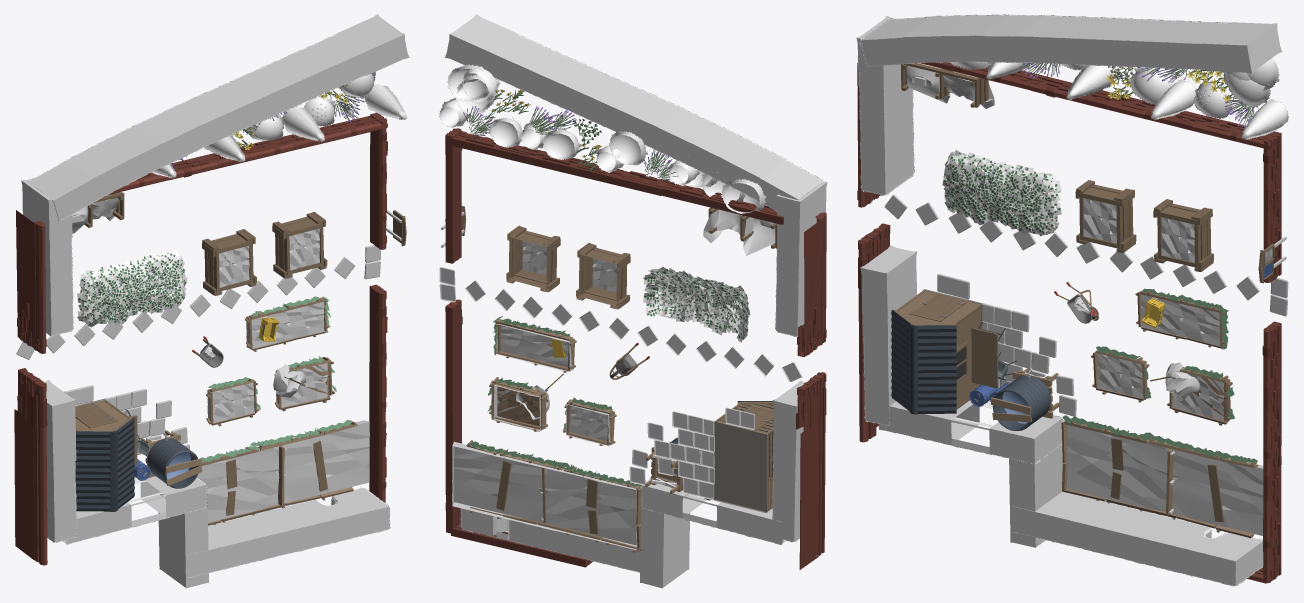
3 renders of one model, left to right at view 1: azimuth 30°, elevation 25°; view 2: azimuth 150°, elevation 25°; view 3: azimuth 330°, elevation 25°, orthographic. The views are drawn at different scales.
Visible parts, largest first — view 1: brick_gate, PlanterDirtLeftLow0, shed, leaves, brickwall1, brickwall3, HedgeHole, HedgeSideEnd6, HedgeSideEnd5, brickwall2, HedgeSideMiddle20, HedgeSideMiddle21 (+41 smaller); view 2: PlanterDirtLeftLow0, brick_gate, shed, leaves, brickwall3, brickwall1, brickwall2, HedgeSideEnd5, PlanterDirtCenterLow2, HedgeSideMiddle20, HedgeSideMiddle22, HedgeSideMiddle4 (+46 smaller); view 3: PlanterDirtLeftLow0, shed, leaves, brickwall1, HedgeHole, brickwall3, HedgeSideEnd5, brick_gate, HedgeEnd3, HedgeEnd4, brickwall2, HedgeEnd0 (+49 smaller).
Part boxes in pixels (x1=…): brick_gate: x1=14, y1=210, x2=47, y2=565; PlanterDirtLeftLow0: x1=197, y1=420, x2=369, y2=522; shed: x1=75, y1=398, x2=134, y2=511; leaves: x1=77, y1=249, x2=187, y2=327; brickwall1: x1=369, y1=284, x2=387, y2=502; brickwall3: x1=169, y1=115, x2=387, y2=180; HedgeHole: x1=308, y1=488, x2=388, y2=542; HedgeSideEnd6: x1=28, y1=161, x2=98, y2=219; HedgeSideEnd5: x1=338, y1=17, x2=406, y2=73; brickwall2: x1=370, y1=113, x2=387, y2=249; HedgeSideMiddle20: x1=101, y1=125, x2=166, y2=180; HedgeSideMiddle21: x1=67, y1=143, x2=132, y2=198; PlanterDirtLeftLow0: x1=452, y1=441, x2=637, y2=549; brick_gate: x1=796, y1=212, x2=826, y2=569; shed: x1=713, y1=400, x2=773, y2=513; leaves: x1=643, y1=266, x2=750, y2=342; brickwall3: x1=445, y1=131, x2=670, y2=195; brickwall1: x1=445, y1=299, x2=462, y2=533; brickwall2: x1=445, y1=128, x2=462, y2=263; HedgeSideEnd5: x1=447, y1=17, x2=515, y2=70; PlanterDirtCenterLow2: x1=496, y1=324, x2=572, y2=372; HedgeSideMiddle20: x1=686, y1=124, x2=751, y2=179; HedgeSideMiddle22: x1=556, y1=65, x2=619, y2=119; HedgeSideMiddle4: x1=520, y1=50, x2=583, y2=104; PlanterDirtLeftLow0: x1=1067, y1=425, x2=1263, y2=535; shed: x1=891, y1=289, x2=983, y2=414; leaves: x1=942, y1=149, x2=1061, y2=236; brickwall1: x1=1262, y1=321, x2=1281, y2=583; HedgeHole: x1=1173, y1=525, x2=1263, y2=585; brickwall3: x1=1029, y1=75, x2=1272, y2=150; HedgeSideEnd5: x1=1203, y1=23, x2=1279, y2=71; brick_gate: x1=857, y1=63, x2=890, y2=442; HedgeEnd3: x1=863, y1=248, x2=914, y2=320; HedgeEnd4: x1=989, y1=416, x2=1062, y2=463; brickwall2: x1=1263, y1=131, x2=1281, y2=282; HedgeEnd0: x1=861, y1=127, x2=913, y2=194.
Size of the model in its own units: 1378 by 1784 by 266.
